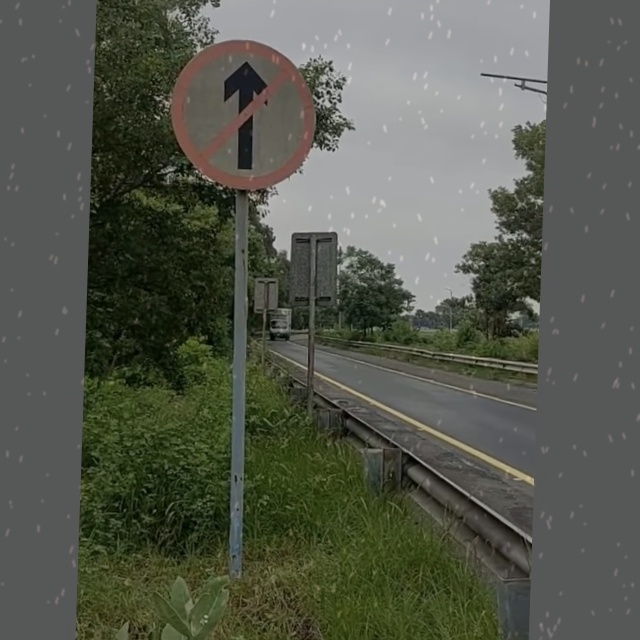No_Entry: (166, 41, 321, 189)
